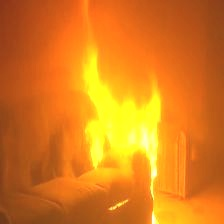fire: (87, 69, 166, 159)
